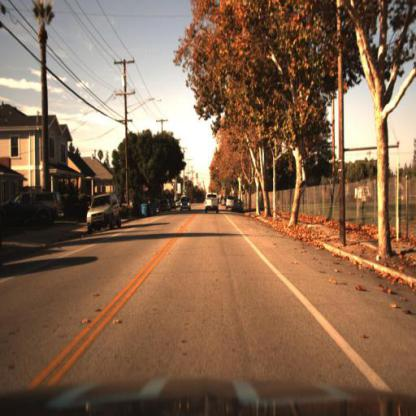car: (8, 189, 66, 227), (86, 189, 124, 235), (85, 191, 122, 236), (203, 187, 219, 216), (177, 194, 193, 212), (230, 195, 245, 214), (180, 196, 190, 214)
